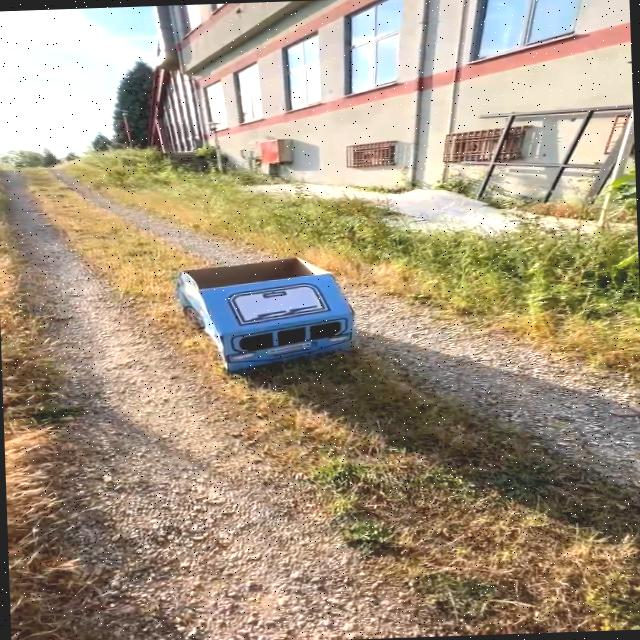blue_car: (116, 231, 449, 398)
